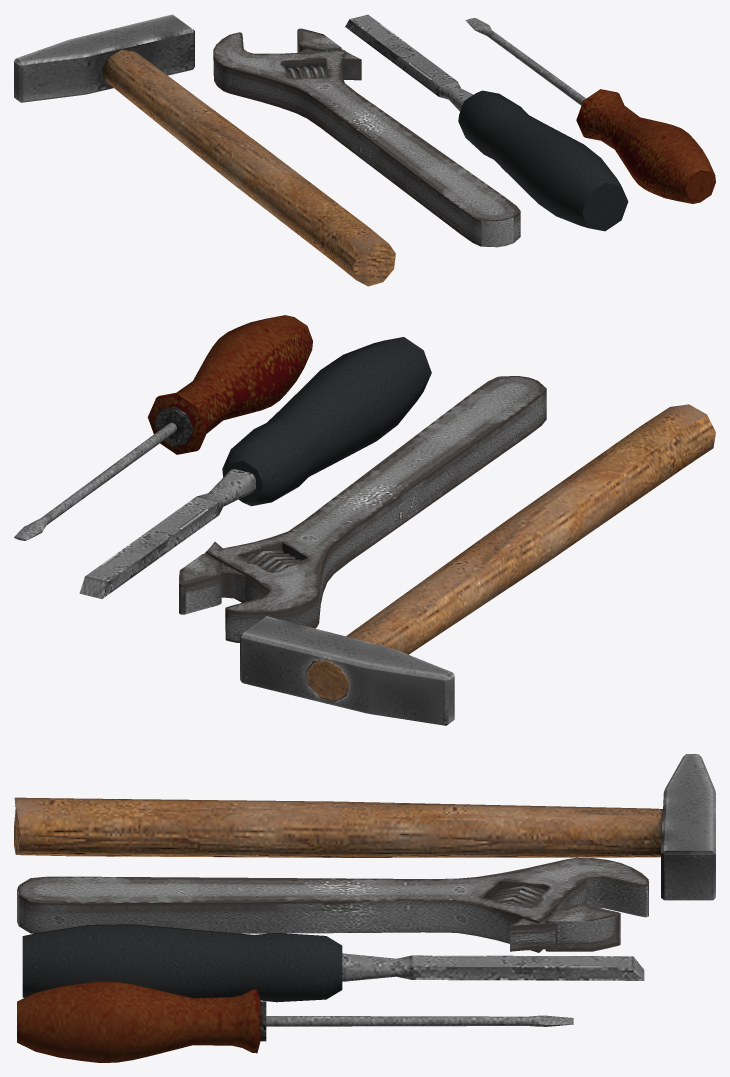
The model's file is tools_pack.glb.
3 renders of one model, top to bottom at view 1: azimuth 30°, elevation 25°; view 2: azimuth 150°, elevation 25°; view 3: azimuth 270°, elevation 25°, orthographic. The views are drawn at different scales.
Parts seen in each view (by area): view 1: Cube.001, Cylinder, Cylinder.002, Cube, Cylinder.003, Cube.004, Cylinder.004, Cube.002, Cube.003; view 2: Cube.001, Cylinder, Cylinder.002, Cube, Cylinder.003, Cube.004, Cube.002, Cylinder.004, Cube.003, Spiral; view 3: Cylinder, Cube.001, Cylinder.002, Cylinder.003, Cube.004, Cube, Cylinder.004, Cube.002, Cube.003, Spiral.
Boxes of the visible parts, <box> form: Cube.001: <box>213,32,520,247</box>; Cylinder: <box>102,49,395,286</box>; Cylinder.002: <box>458,90,628,231</box>; Cube: <box>14,14,194,102</box>; Cylinder.003: <box>576,89,715,203</box>; Cube.004: <box>345,14,473,111</box>; Cylinder.004: <box>465,18,585,105</box>; Cube.002: <box>297,28,341,52</box>; Cube.003: <box>299,48,361,80</box>; Cube.001: <box>206,376,546,642</box>; Cylinder: <box>306,404,715,700</box>; Cylinder.002: <box>222,337,431,506</box>; Cube: <box>240,616,454,725</box>; Cylinder.003: <box>147,315,312,454</box>; Cube.004: <box>79,469,255,598</box>; Cube.002: <box>179,554,221,614</box>; Cylinder.004: <box>14,422,176,540</box>; Cube.003: <box>204,542,245,600</box>; Spiral: <box>245,550,300,571</box>; Cylinder: <box>14,797,662,857</box>; Cube.001: <box>17,857,648,952</box>; Cylinder.002: <box>22,924,342,1002</box>; Cylinder.003: <box>17,981,266,1062</box>; Cube.004: <box>342,953,644,981</box>; Cube: <box>661,754,715,900</box>; Cylinder.004: <box>266,1015,573,1026</box>; Cube.002: <box>545,904,620,951</box>; Cube.003: <box>510,898,568,951</box>; Spiral: <box>490,885,545,907</box>.
Size of the model in its own units: 1.58 by 0.2348 by 1.8.
1 material, 1 textured.
